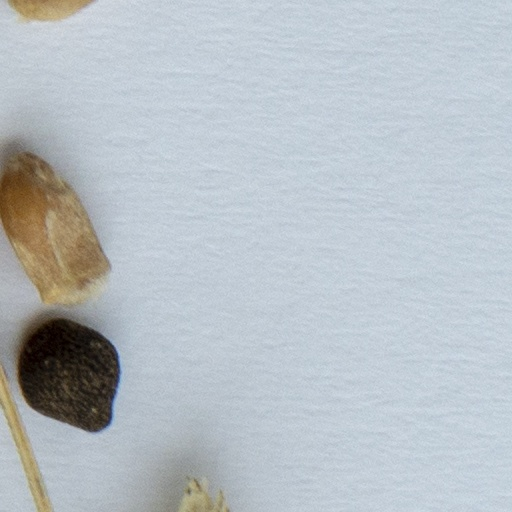Wheat-grain-damaged-poly: (0, 142, 112, 309)
